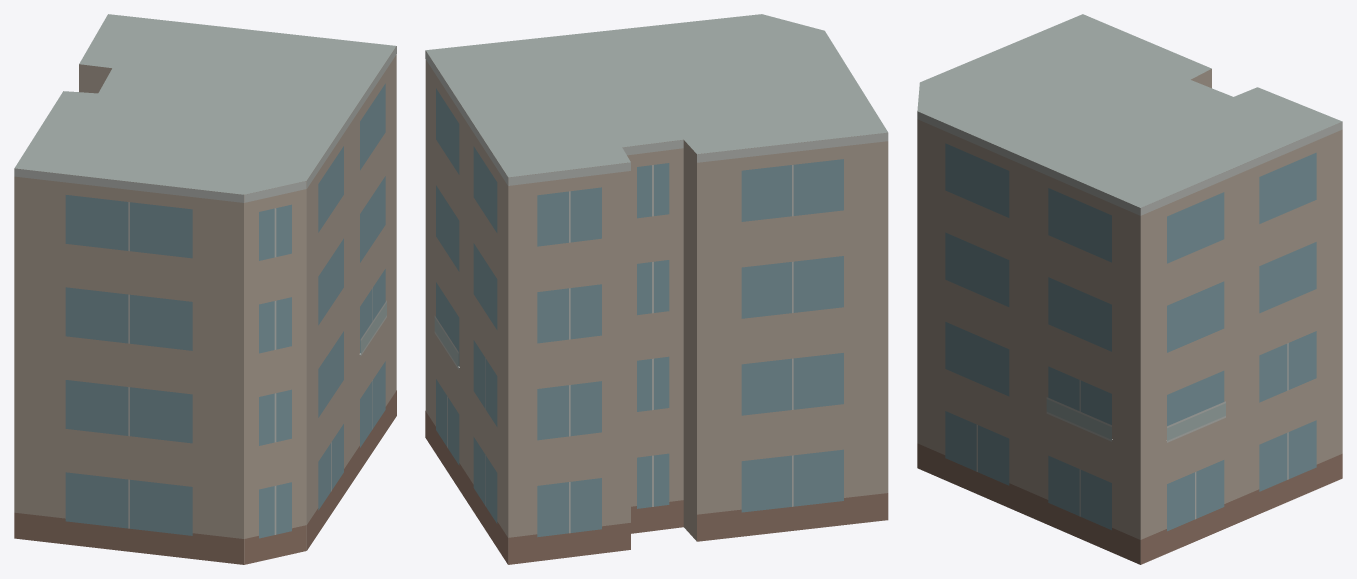
File: survey-upis-32773197.glb
3 renders of one model, left to right at view 1: azimuth 30°, elevation 25°; view 2: azimuth 150°, elevation 25°; view 3: azimuth 270°, elevation 25°, orthographic. The views are drawn at different scales.
Parts seen in each view (by area): view 1: survey-upis-32773197.tmp; view 2: survey-upis-32773197.tmp; view 3: survey-upis-32773197.tmp.
Boxes of the visible parts, x1,y1,x2,y2 form: survey-upis-32773197.tmp: [14, 14, 396, 564]; survey-upis-32773197.tmp: [425, 14, 888, 564]; survey-upis-32773197.tmp: [917, 14, 1342, 564].
Size of the model in its own units: 12.83 by 11 by 11.89.
